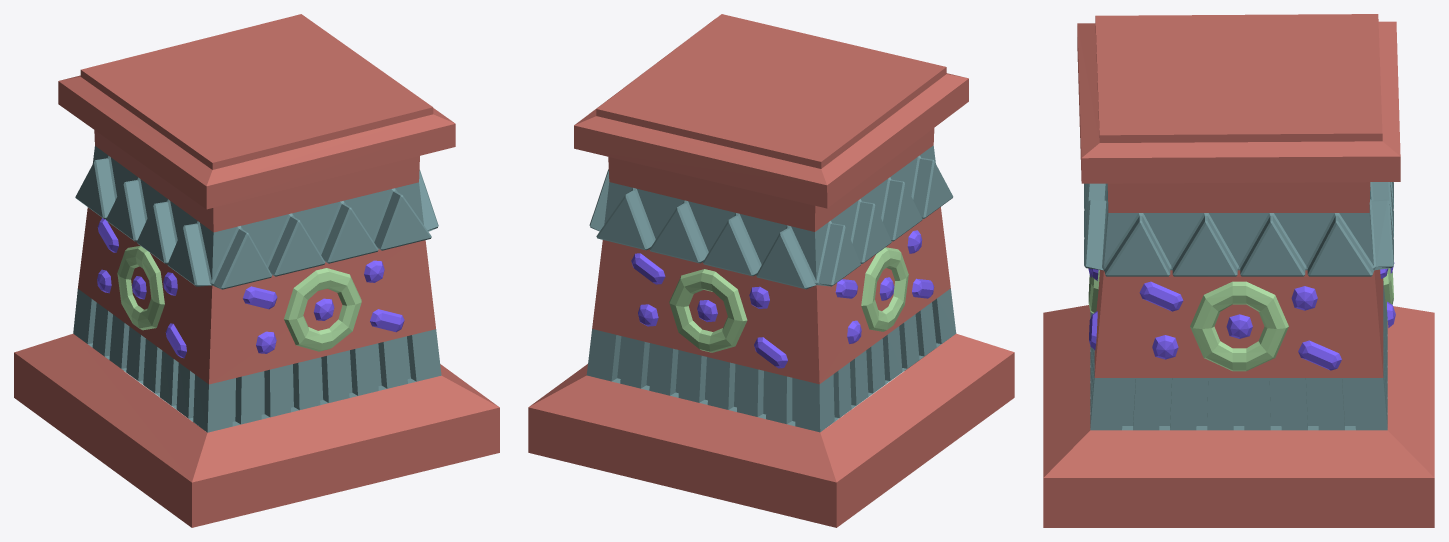
File: Autel.fbx
3 renders of one model, left to right at view 1: azimuth 30°, elevation 25°; view 2: azimuth 150°, elevation 25°; view 3: azimuth 270°, elevation 25°, orthographic. The views are drawn at different scales.
Parts seen in each view (by area): view 1: polySurface77; view 2: polySurface77; view 3: polySurface77.
Boxes of the visible parts, left/top/right/bottom form: polySurface77: left=14, top=14, right=499, bottom=527; polySurface77: left=528, top=14, right=1014, bottom=527; polySurface77: left=1043, top=14, right=1434, bottom=527.
Size of the model in its own units: 158 by 165 by 158.
